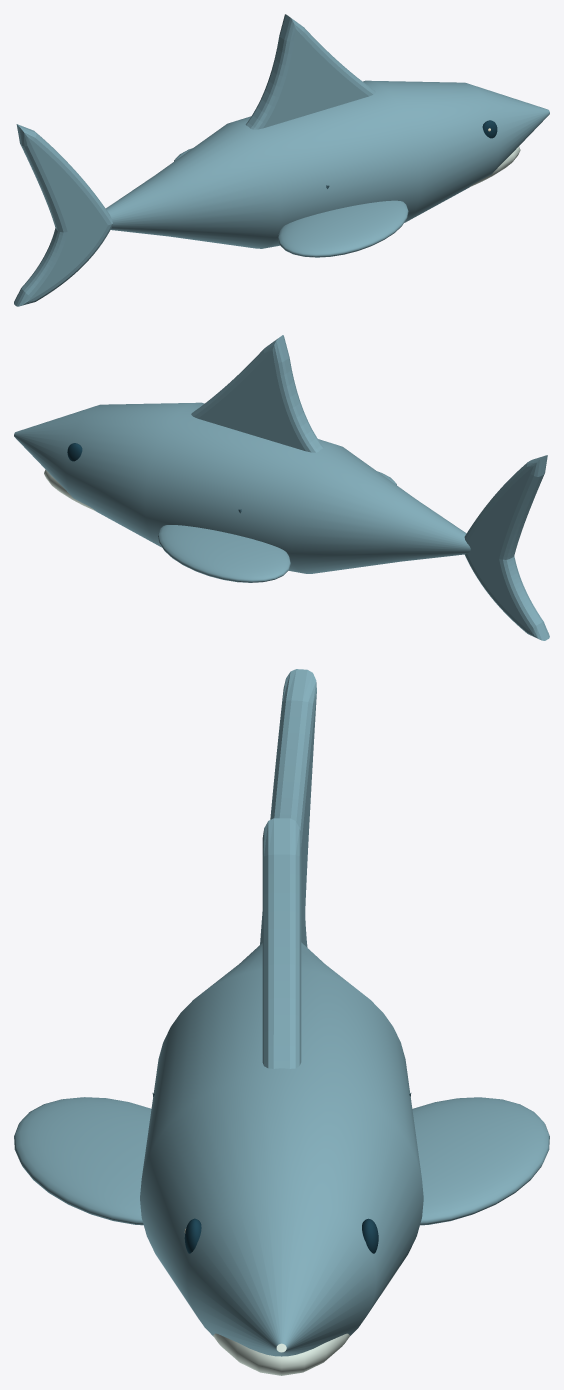
Rendered from shark.gltf.
3 renders of one model, top to bottom at view 1: azimuth 30°, elevation 25°; view 2: azimuth 150°, elevation 25°; view 3: azimuth 270°, elevation 25°, orthographic. The views are drawn at different scales.
Visible parts, largest first — view 1: Group (×2); view 2: Group (×2); view 3: Group (×2).
Part boxes in pixels (x1=…): Group (×2): x1=14, y1=14, x2=549, y2=306; Group (×2): x1=14, y1=335, x2=549, y2=640; Group (×2): x1=14, y1=669, x2=549, y2=1375.
Size of the model in its own units: 3.5 by 1.45 by 1.67.
